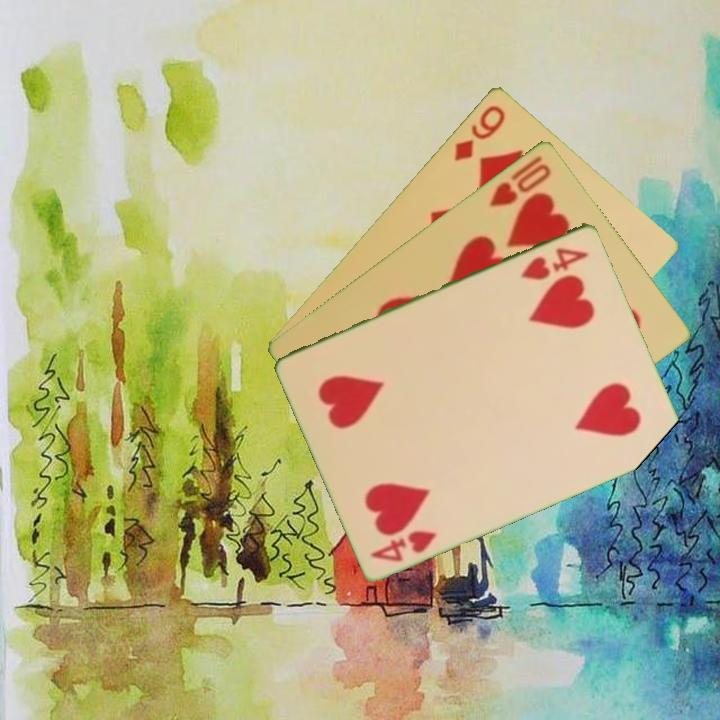10h: (486, 151, 554, 209)
4h: (517, 243, 592, 283), (367, 526, 440, 565)
9d: (450, 101, 509, 164)
